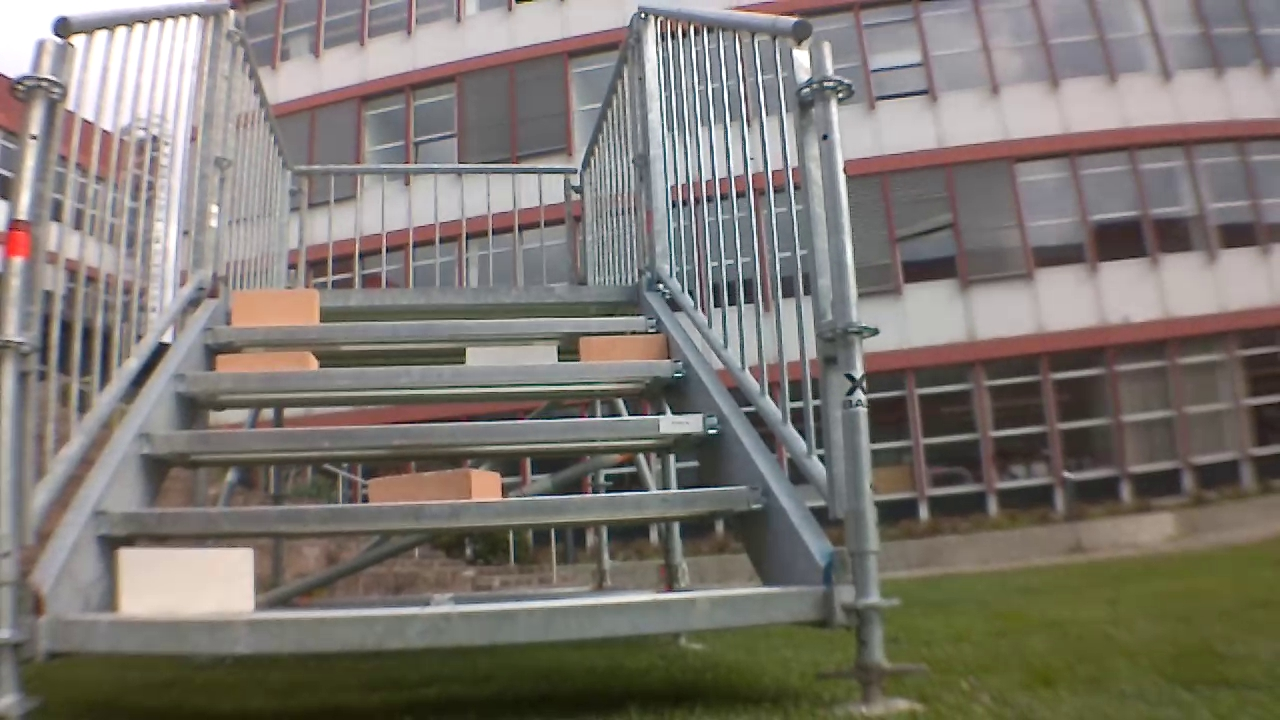brick: (118, 546, 252, 617), (368, 469, 500, 502), (232, 290, 317, 324), (579, 334, 666, 361), (216, 349, 319, 370), (466, 345, 558, 364)
edge: (44, 586, 830, 652), (97, 487, 767, 530), (138, 415, 722, 448), (175, 358, 688, 389), (205, 316, 659, 340), (222, 286, 638, 304)
stairs: (9, 4, 894, 711)
steps: (35, 284, 839, 658)
